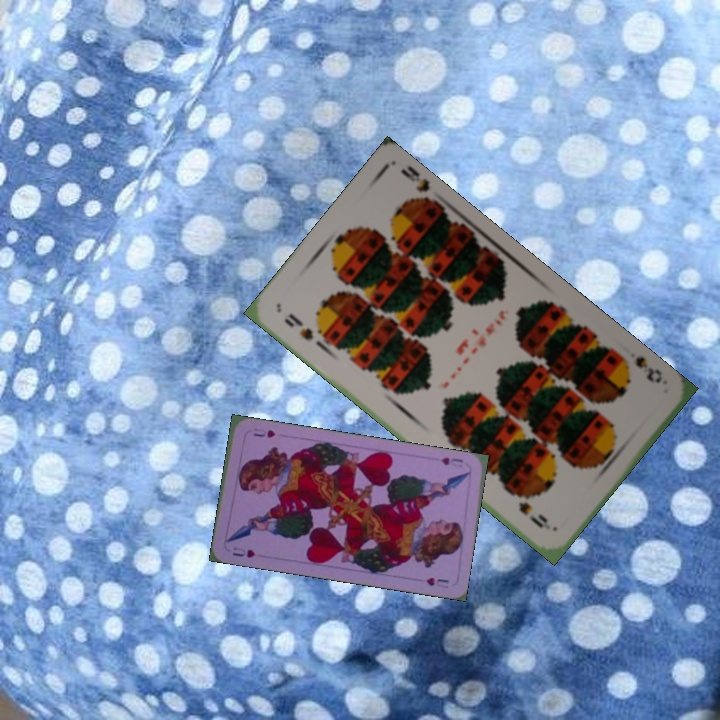HU: (229, 543, 258, 560), (437, 453, 466, 470)
S9: (280, 309, 328, 350), (615, 351, 666, 386)
